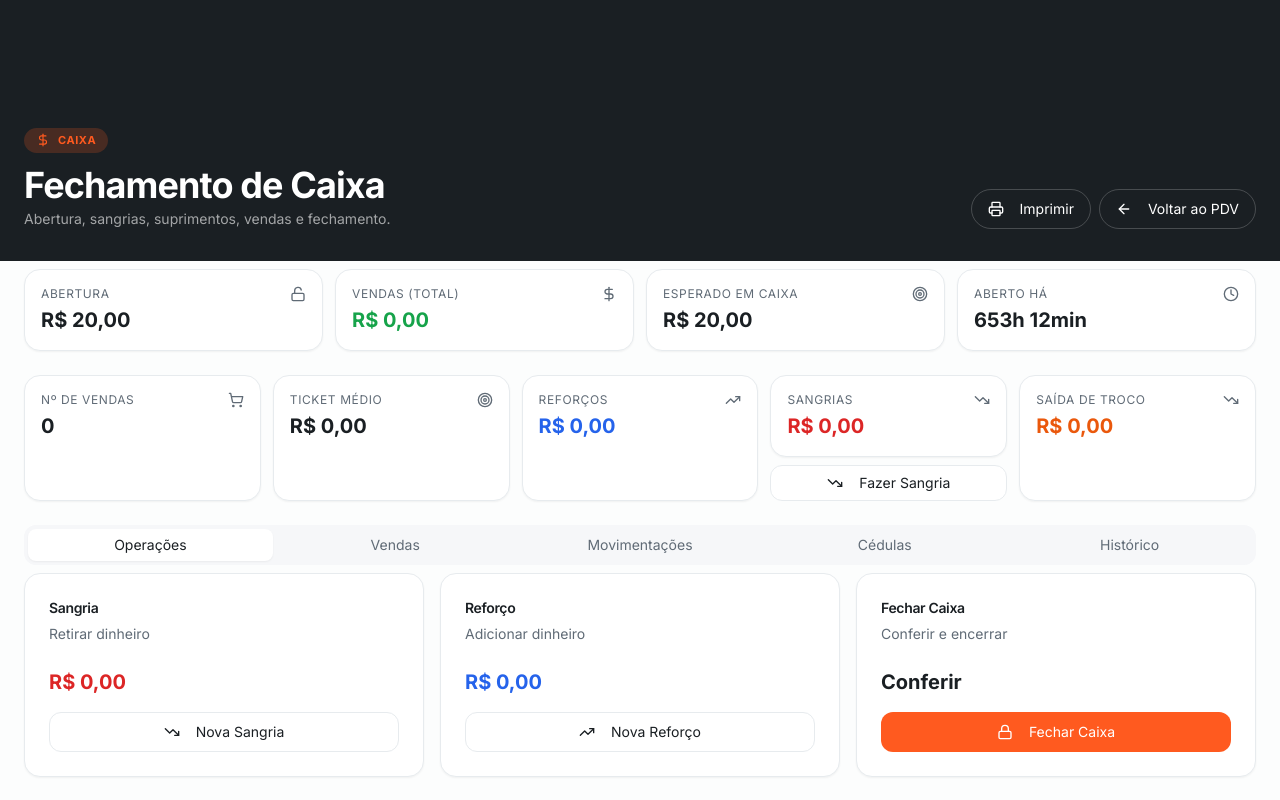
Test: reforço do caixa por cédulas › registra 2 notas de 50 e 1 moeda de 0,50 como R$ 100,50 e recarrega o saldo
Click the button "Nova Reforço" at (640, 732), box left=465, top=712, right=815, bottom=752
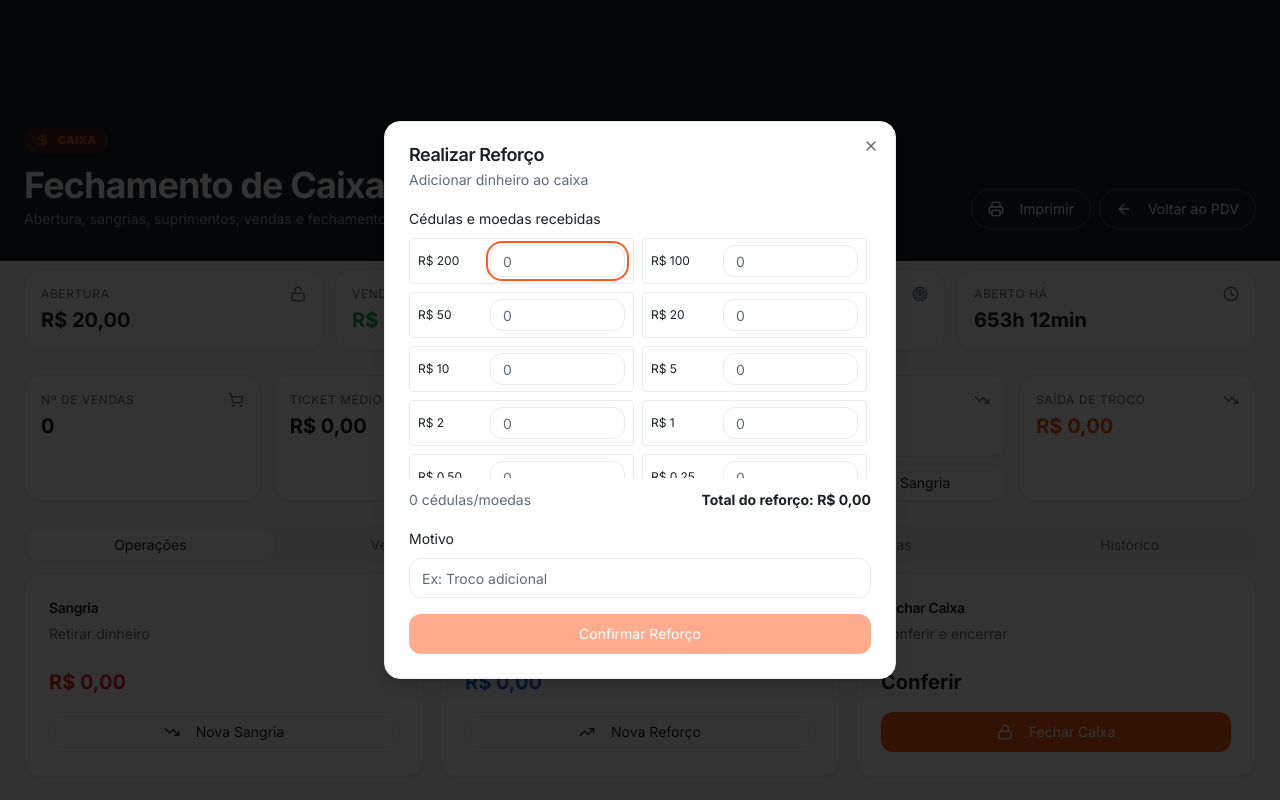
Type "2" into the number field named "Quantidade de R$ 50" at (558, 315), box left=490, top=299, right=625, bottom=331
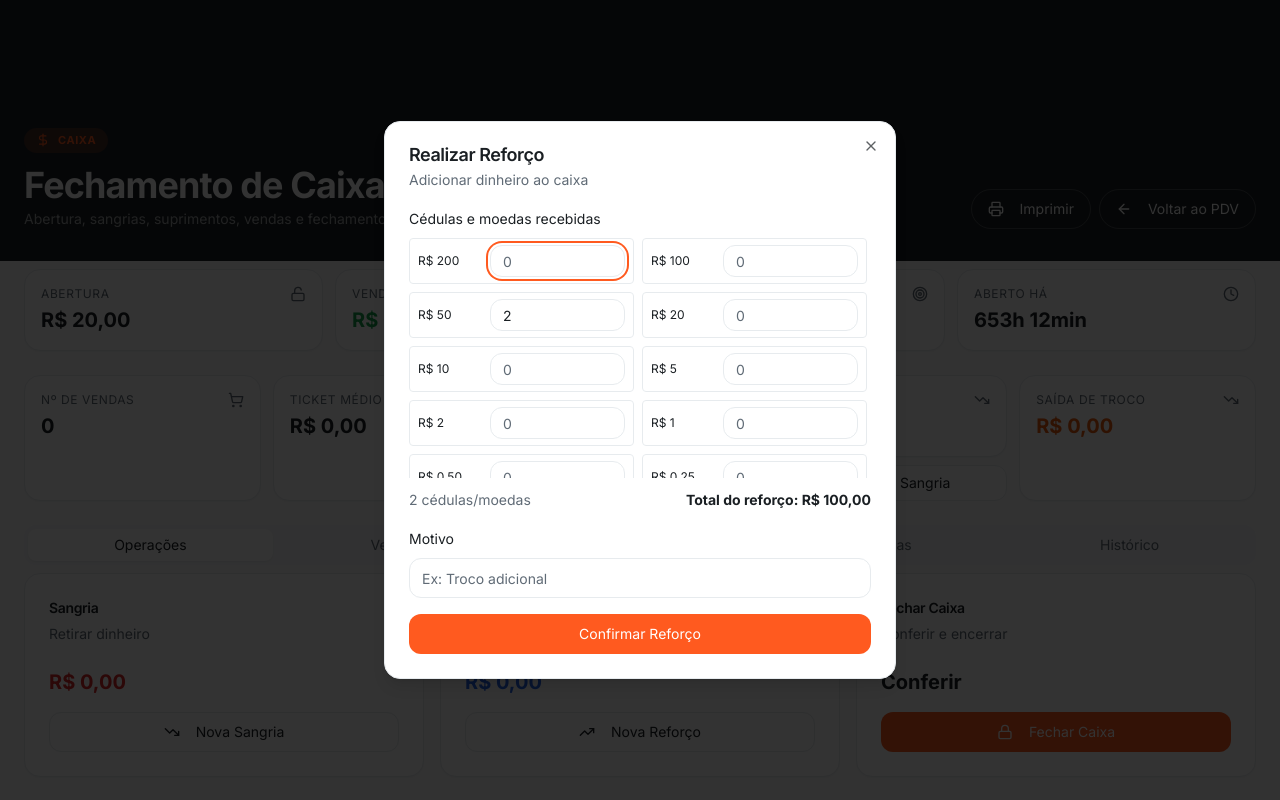
Type "1" into the number field named "Quantidade de R$ 0,50" at (558, 477), box left=490, top=461, right=625, bottom=493
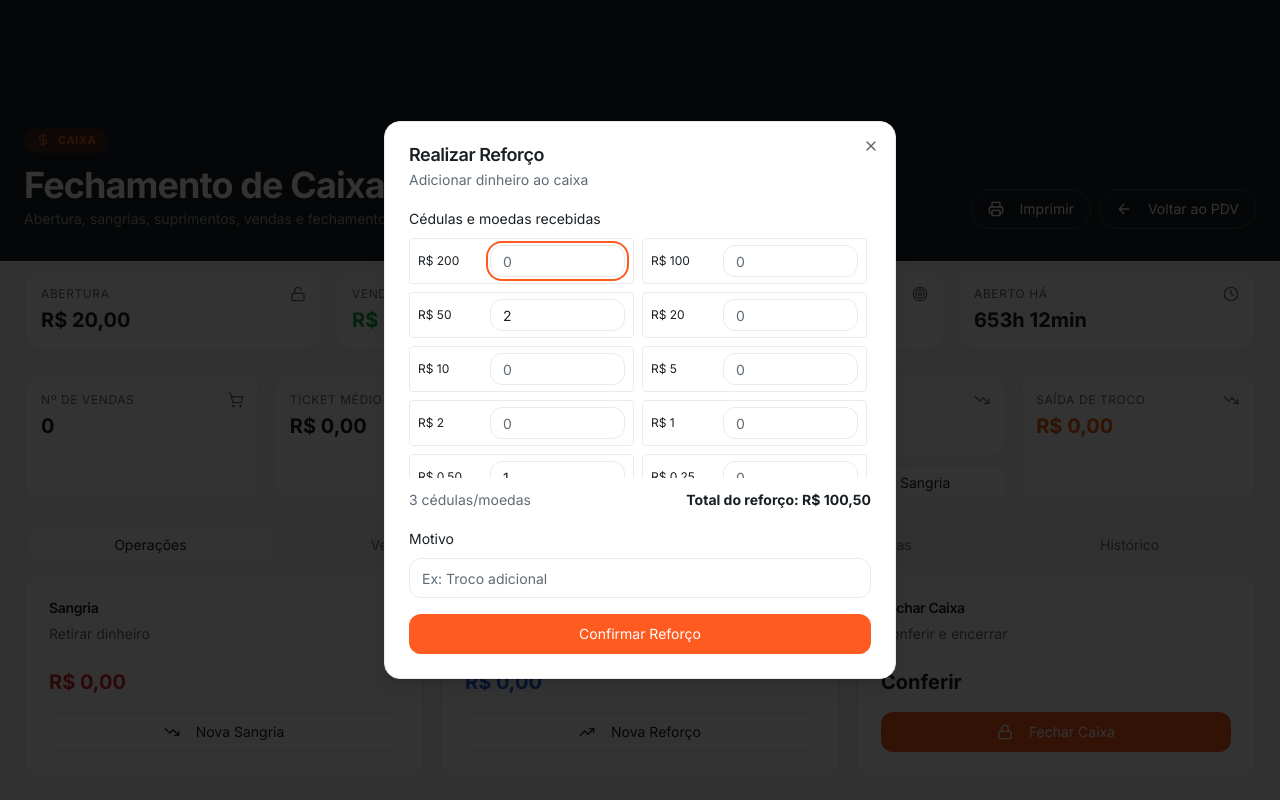
Click the button "Confirmar Reforço" at (640, 634), box left=409, top=614, right=871, bottom=654
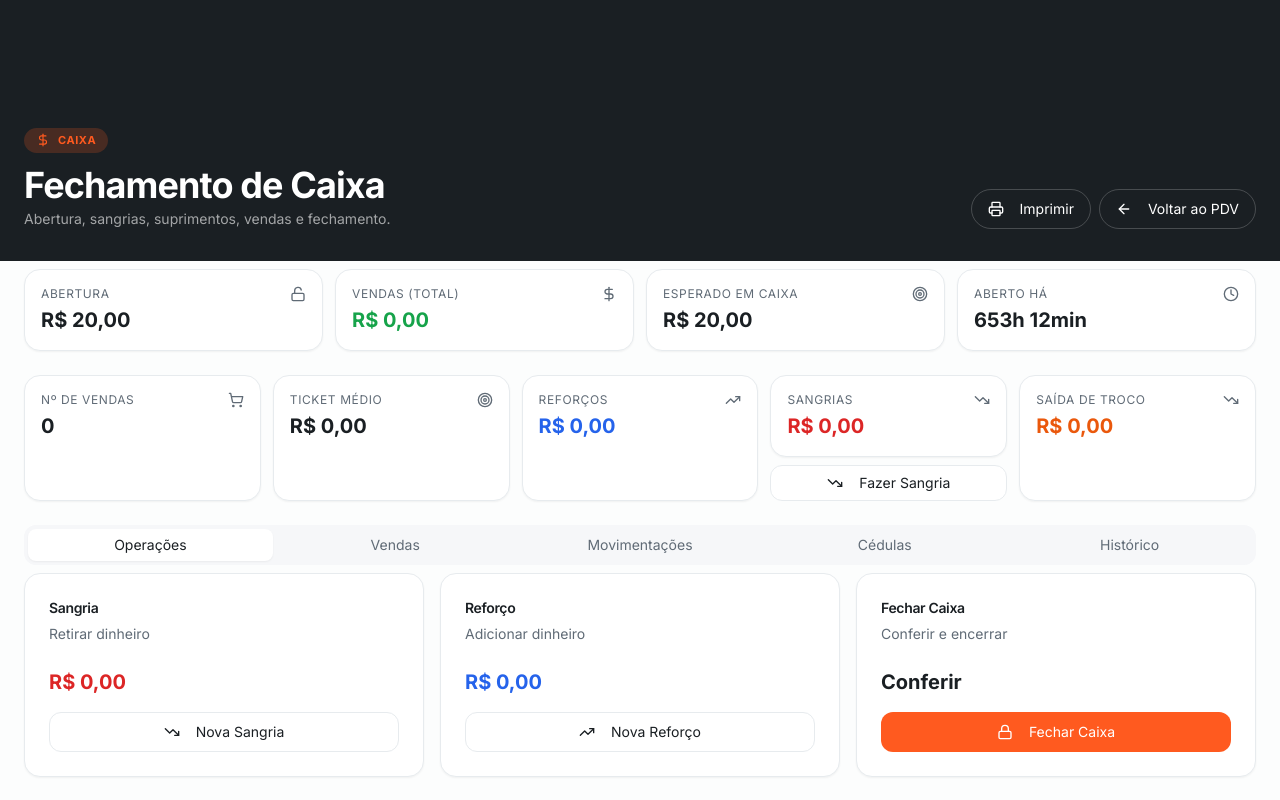
Result: the dialog is gone
Click the tab "Cédulas" at (885, 544), box left=762, top=528, right=1007, bottom=560
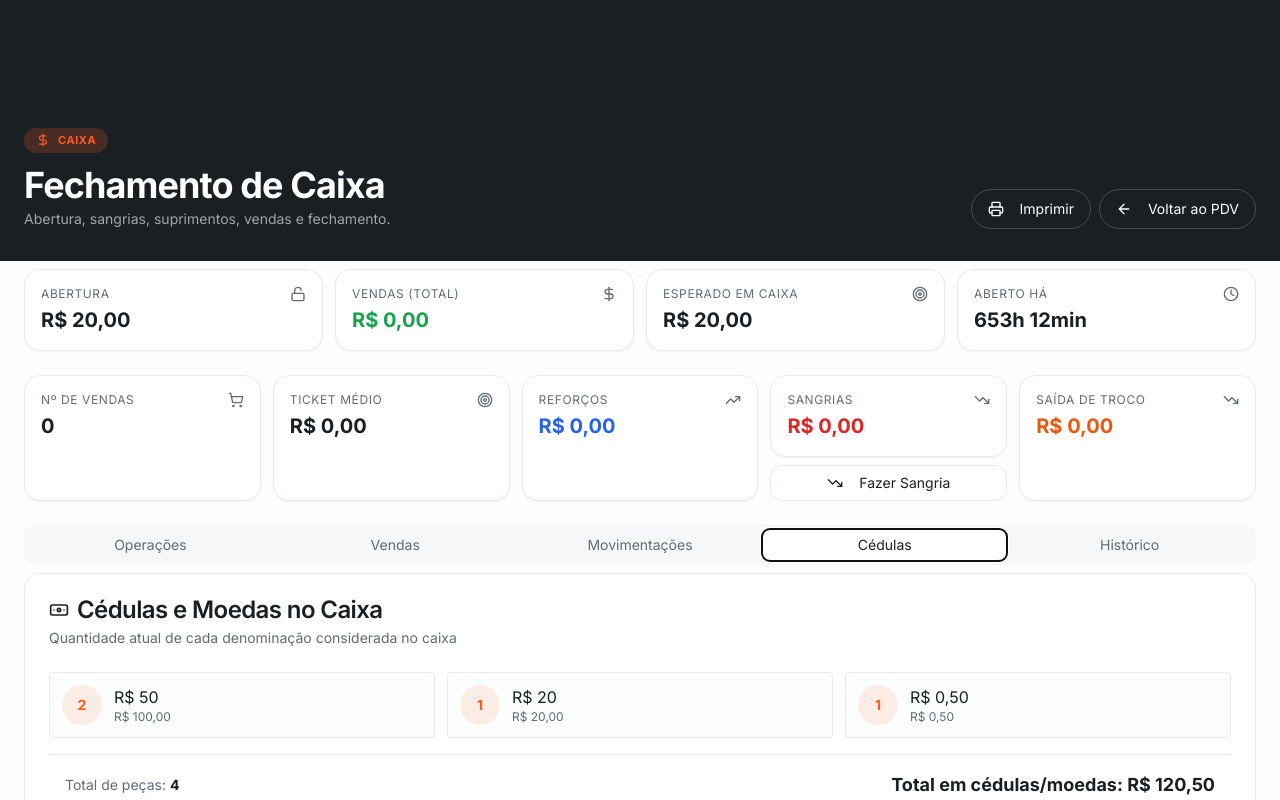
Result: the text "R$ 100,00" is shown at left=114, top=708, right=171, bottom=724
